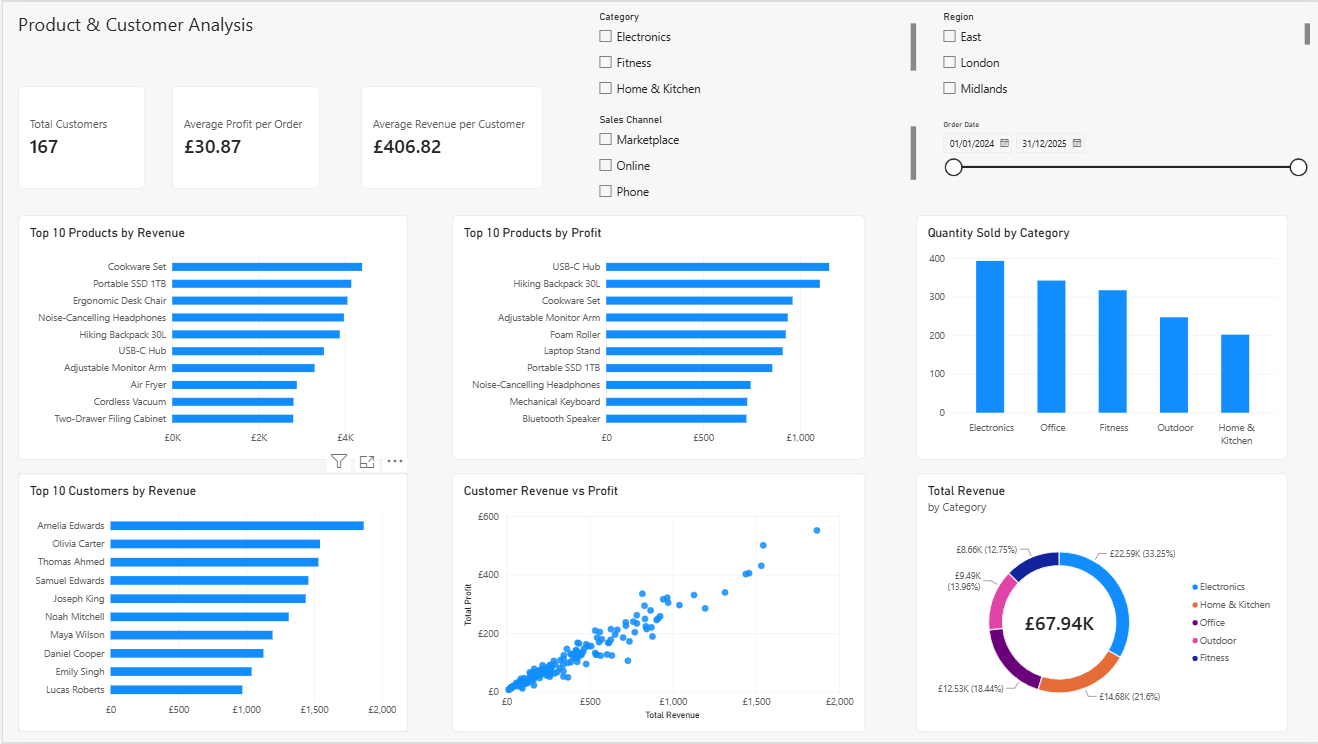

Layout of this report page (visuals, bound fields, positions):
{"tool":"powerbi","page":{"name":"Product & Customer Insights","canvas":[1920,1080],"ordinal":1},"visuals":[{"type":"slicer","fields":{"Values":["Calendar.Year"]},"box":[10.2,191.1,280.1,105],"z":0},{"type":"slicer","fields":{"Values":["Retail Sales.category"]},"box":[0,322.4,280.1,87.5],"z":1000},{"type":"slicer","fields":{"Values":["Retail Sales.region"]},"box":[0,439.1,280.1,54],"z":2000},{"type":"clusteredBarChart","title":"Top 10 Products by Revenue","fields":{"Category":["Retail Sales.product"],"Y":["Retail Sales.Total Revenue"]},"box":[1103,189.7,792.2,431.9],"z":3000},{"type":"clusteredBarChart","title":"Top 10 Customers by Revenue","fields":{"Category":["Retail Sales.customer_name"],"Y":["Retail Sales.Total Revenue"]},"box":[307.8,189.7,776.2,431.9],"z":4000},{"type":"textbox","box":[10.2,10.2,417.3,75.9],"z":5000},{"type":"cardVisual","fields":{"Data":["Retail Sales.Average Order Value"]},"box":[519.4,17.5,280,150],"z":6000},{"type":"cardVisual","fields":{"Data":["Retail Sales.Total Customers"]},"box":[875.4,17.5,280.1,150.3],"z":7000},{"type":"cardVisual","fields":{"Data":["Retail Sales.Total Units Card"]},"box":[1224.1,16,280.1,150.3],"z":8000},{"type":"cardVisual","fields":{"Data":["Retail Sales.Loss-Making Lines"]},"box":[1594.7,16,280.1,150.3],"z":9000},{"type":"pivotTable","title":"Category and Channel Performance","fields":{"Columns":["Retail Sales.sales_channel"],"Rows":["Retail Sales.category"],"Values":["Retail Sales.Total Revenue","Retail Sales.Total Profit"]},"box":[10.2,637.6,1073.8,430.4],"z":9001},{"type":"tableEx","title":"Loss-Making Transactions","fields":{"Values":["Retail Sales.order_id","Retail Sales.order_date","Retail Sales.product","Sum(Retail Sales.revenue)","Sum(Retail Sales.cost)","Sum(Retail Sales.profit)"]},"box":[1148.2,637.6,726.6,430.4],"z":9002}]}

Visuals, with their boxes in screenshot pixels (x1, y1, x2, y2), scaled from the page's 1920x1080 canvas onto the 1318x744 screenshot:
slicer - Calendar.Year: bbox(7, 132, 199, 204)
slicer - Retail Sales.category: bbox(0, 222, 192, 282)
slicer - Retail Sales.region: bbox(0, 302, 192, 340)
"Top 10 Products by Revenue" clusteredBarChart: bbox(757, 131, 1301, 428)
"Top 10 Customers by Revenue" clusteredBarChart: bbox(211, 131, 744, 428)
textbox: bbox(7, 7, 293, 59)
cardVisual - Retail Sales.Average Order Value: bbox(357, 12, 549, 115)
cardVisual - Retail Sales.Total Customers: bbox(601, 12, 793, 116)
cardVisual - Retail Sales.Total Units Card: bbox(840, 11, 1033, 115)
cardVisual - Retail Sales.Loss-Making Lines: bbox(1095, 11, 1287, 115)
"Category and Channel Performance" pivotTable: bbox(7, 439, 744, 736)
"Loss-Making Transactions" tableEx: bbox(788, 439, 1287, 736)
